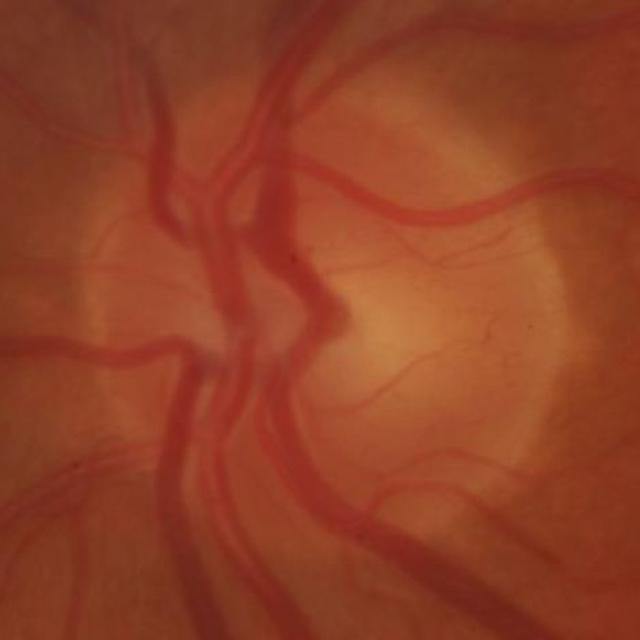OC: (289, 269, 444, 406)
OD: (80, 79, 569, 562)
